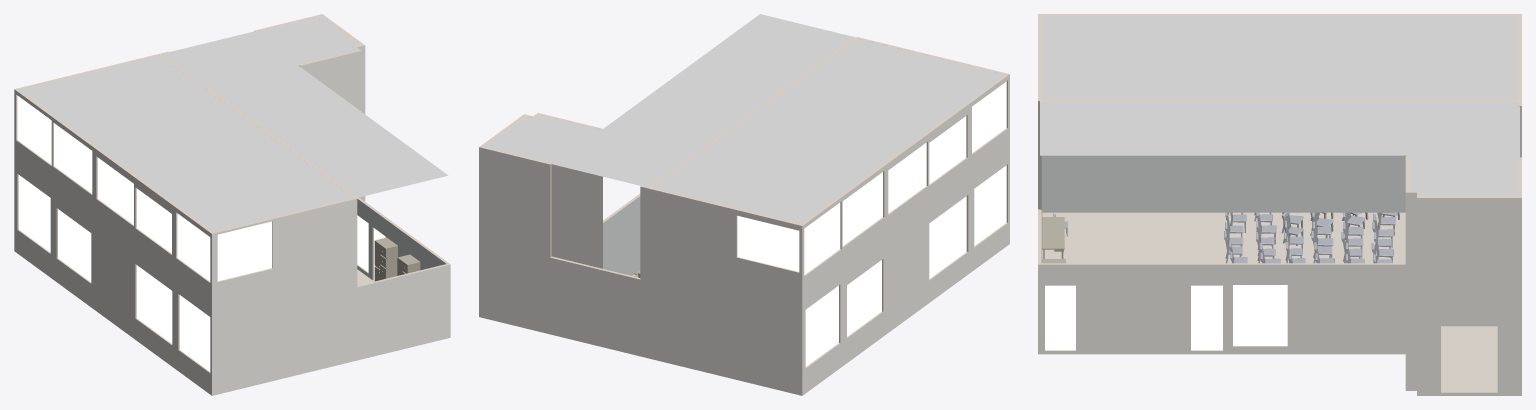
File: Hub.glb
3 views of the same model, side by side, from view 1: azimuth 30°, elevation 25°; view 2: azimuth 150°, elevation 25°; view 3: azimuth 270°, elevation 25° (orthographic). The views are drawn at different scales.
Visible parts, largest first — view 1: Ceiling_Dining_Room_1, Wall_3, Wall_5, Ceiling_Dining_Room_2, Ceiling_Other, Wall_10, Window_0, Wall_4, Wall_9, Window_2, Window_4, Window_5 (+11 smaller); view 2: Ceiling_Dining_Room_1, Wall_7, Wall_2, Wall_5, Ceiling_Dining_Room_2, Ceiling_Other, Wall_9, Window_11, Wall_4, Window_2, Window_4, Window_5 (+7 smaller); view 3: Ceiling_Dining_Room_1, Wall_4, Wall_8, Ceiling_Dining_Room_2, Wall_6, Floor_Dining_Room_1, Ceiling_Other, Floor_Other, Window_1, Wall_0, Door_1, Door_0 (+2 smaller).
Boxes of the visible parts, x1,y1,x2,y2 form: Ceiling_Dining_Room_1: (19,55,354,232); Wall_3: (212,198,357,395); Wall_5: (14,89,212,395); Ceiling_Dining_Room_2: (208,65,448,197); Ceiling_Other: (162,16,360,87); Wall_10: (357,264,450,360); Window_0: (217,221,272,281); Wall_4: (357,197,449,280); Wall_9: (297,50,361,198); Window_2: (136,265,172,343); Window_4: (18,175,50,252); Window_5: (179,295,210,371); Ceiling_Dining_Room_1: (653,38,1004,223); Wall_7: (650,188,802,395); Wall_2: (479,146,649,358); Wall_5: (801,74,1009,395); Ceiling_Dining_Room_2: (603,14,855,152); Ceiling_Other: (483,114,697,187); Wall_9: (538,113,602,268); Window_11: (737,215,799,271); Wall_4: (603,193,640,275); Window_2: (929,196,966,278); Window_4: (805,285,838,366); Window_5: (974,165,1006,245); Ceiling_Dining_Room_1: (1041,15,1518,99); Wall_4: (1038,263,1405,354); Wall_8: (1041,100,1518,262); Ceiling_Dining_Room_2: (1040,100,1407,155); Wall_6: (1417,196,1521,395); Floor_Dining_Room_1: (1042,212,1405,263); Ceiling_Other: (1407,101,1519,196); Floor_Other: (1441,326,1497,391); Window_1: (1233,285,1287,345); Wall_0: (1405,191,1419,390); Door_1: (1191,285,1222,350); Door_0: (1045,285,1075,350).
Size of the model in its own units: 11.92 by 5.98 by 13.25.
Materials: 18 (4 with a texture image).
